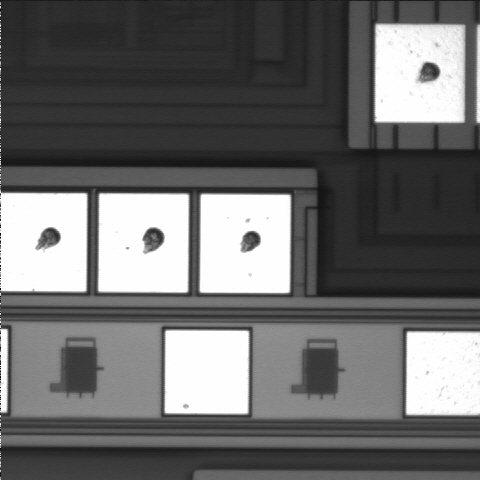pad: (98, 194, 189, 292), (200, 194, 290, 293), (375, 25, 464, 122), (165, 330, 249, 414)
